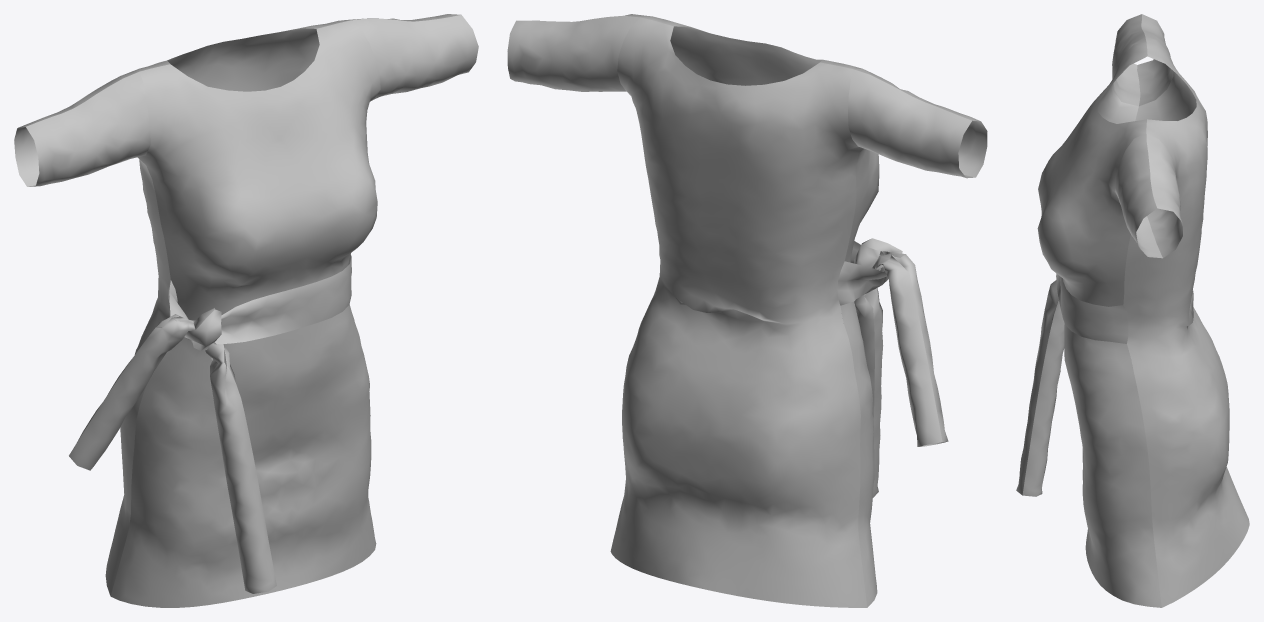
The model's file is small_tieDress_noinside_new2.obj.
The picture shows the model from 3 angles, left to right: view 1: azimuth 30°, elevation 25°; view 2: azimuth 150°, elevation 25°; view 3: azimuth 270°, elevation 25°; orthographic projection. The views are drawn at different scales.
Visible parts, largest first — view 1: small_tieDress_noinside_new:polySurface1; view 2: small_tieDress_noinside_new:polySurface1; view 3: small_tieDress_noinside_new:polySurface1.
Boxes of the visible parts, x1,y1,x2,y2 form: small_tieDress_noinside_new:polySurface1: [14, 14, 478, 607]; small_tieDress_noinside_new:polySurface1: [507, 14, 987, 607]; small_tieDress_noinside_new:polySurface1: [1016, 14, 1249, 607].
Size of the model in its own units: 6.51 by 7.27 by 3.3.
10 materials, 10 textured.
